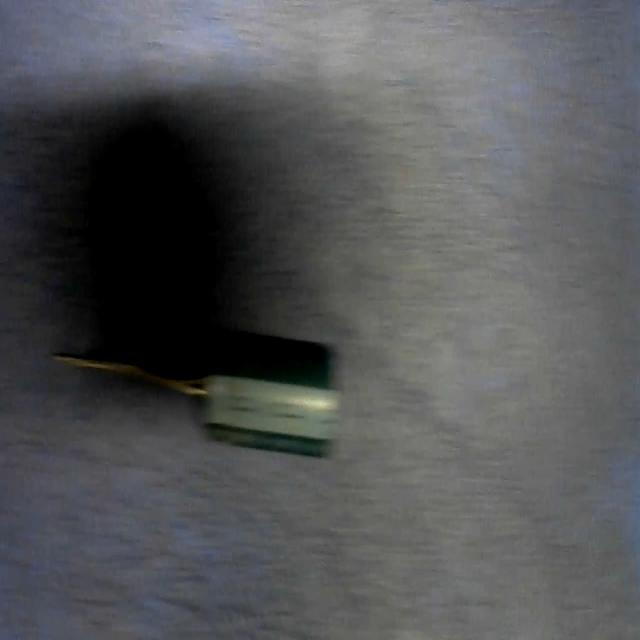capacitor: (51, 322, 337, 466)
